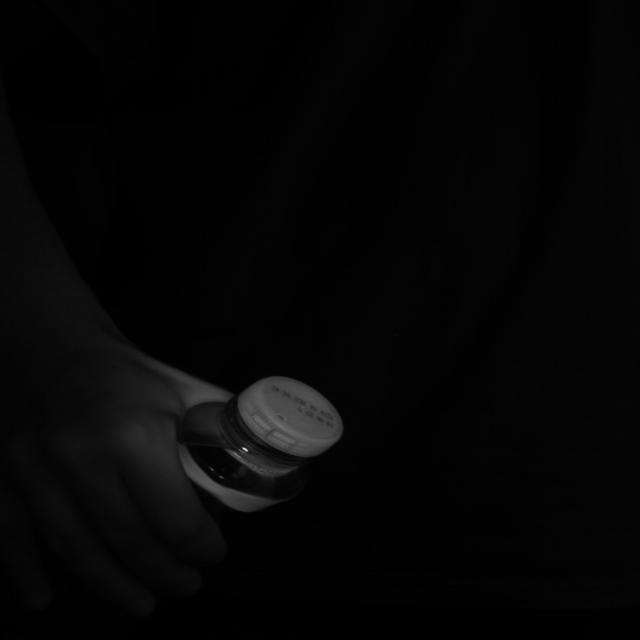Not Good: (225, 376, 338, 470)
